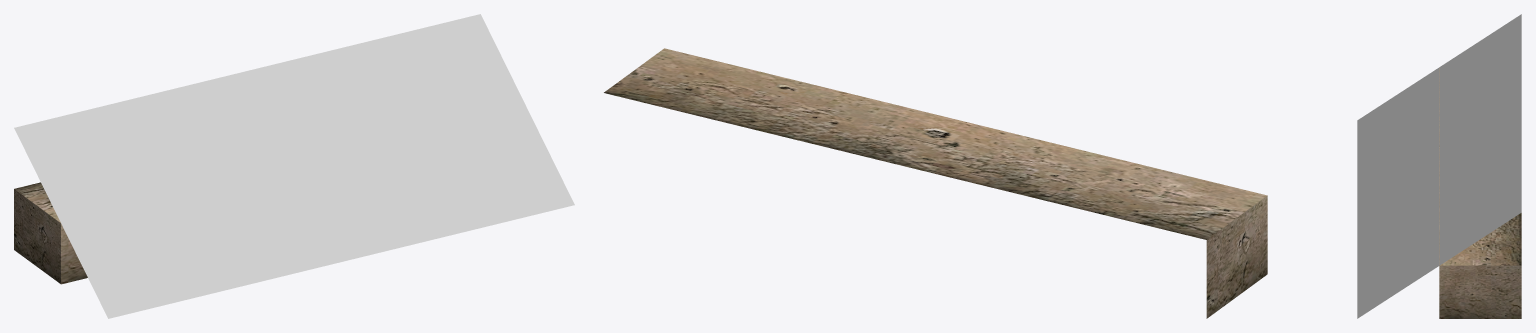
Rendered from M11Z1_Building05_A_Step.glb.
3 renders of one model, left to right at view 1: azimuth 30°, elevation 25°; view 2: azimuth 150°, elevation 25°; view 3: azimuth 270°, elevation 25°, orthographic. The views are drawn at different scales.
Visible parts, largest first — view 1: M11Z1_BUILDING05_A_STEP; view 2: M11Z1_BUILDING05_A_STEP; view 3: M11Z1_BUILDING05_A_STEP.
Part boxes in pixels (left/top/right/bottom): M11Z1_BUILDING05_A_STEP: left=14, top=14, right=574, bottom=318; M11Z1_BUILDING05_A_STEP: left=604, top=48, right=1267, bottom=318; M11Z1_BUILDING05_A_STEP: left=1357, top=14, right=1521, bottom=318.
Bounding box in the file's own units: 2 × 0.5 × 0.7.
2 materials, 1 textured.
